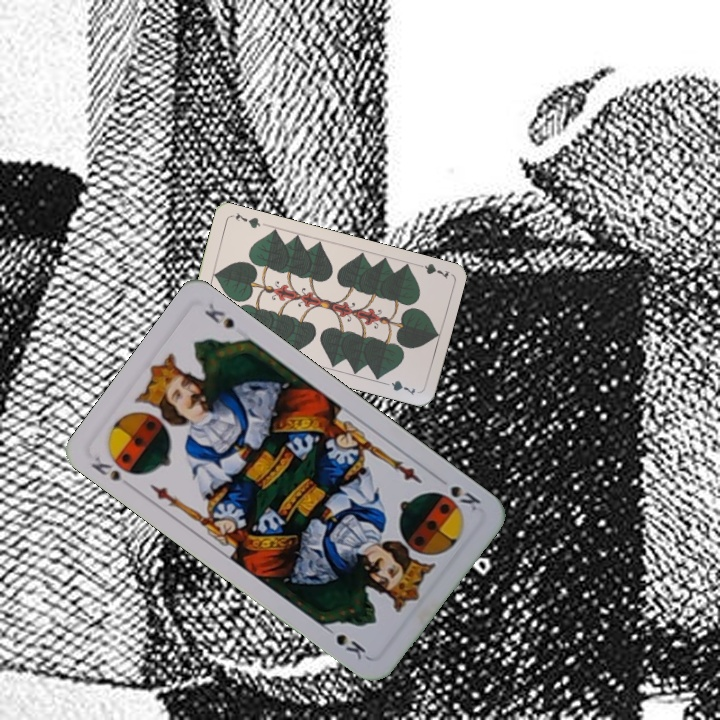G7: (411, 259, 451, 281)
SK: (432, 481, 484, 514), (86, 451, 124, 484)
